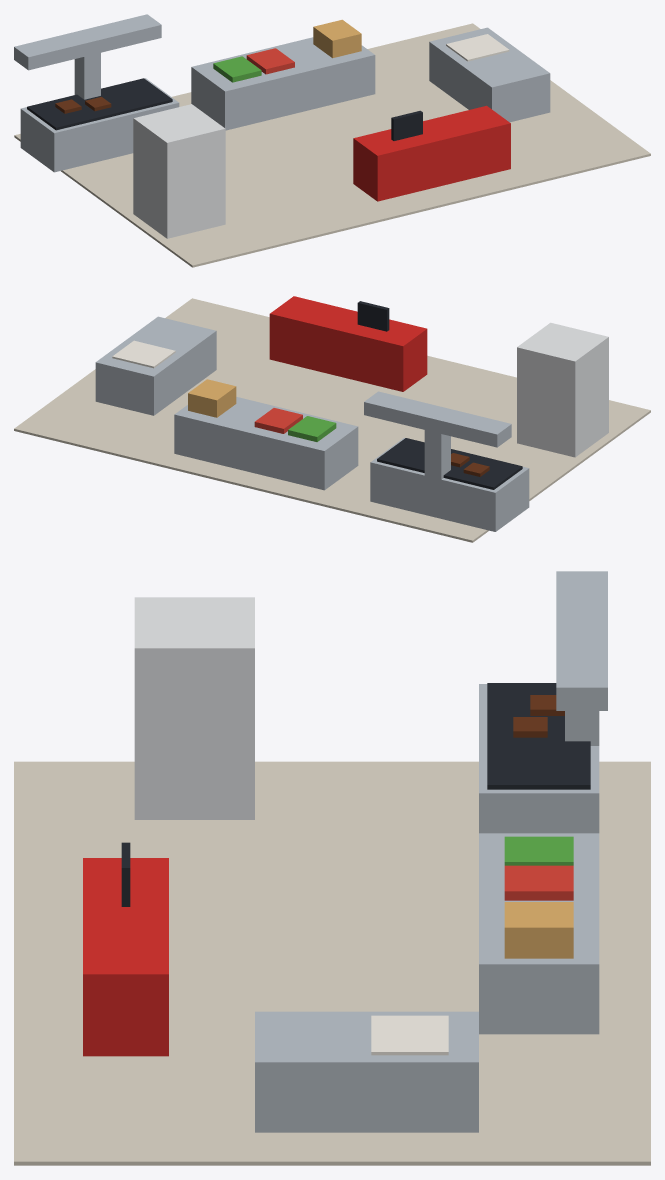
File: kitchen.glb
The picture shows the model from 3 angles, top to bottom: view 1: azimuth 30°, elevation 25°; view 2: azimuth 150°, elevation 25°; view 3: azimuth 270°, elevation 25°; orthographic projection. The views are drawn at different scales.
Parts seen in each view (by area): view 1: object 16, object 15, register, prep line, wrap station, Cube.003, hood, griddle, bun rack, flue, paper, lettuce bin (+2 smaller); view 2: object 16, object 15, register, prep line, wrap station, Cube.003, hood, griddle, bun rack, flue, paper, lettuce bin (+2 smaller); view 3: object 16, object 15, wrap station, register, prep line, griddle, hood, Cube.003, bun rack, paper, tomato bin, lettuce bin (+1 smaller).
Boxes of the visible parts, <box> form: object 16: <box>14,23,650,267</box>; object 15: <box>133,104,225,238</box>; register: <box>353,105,510,201</box>; prep line: <box>191,37,375,130</box>; wrap station: <box>429,27,550,122</box>; Cube.003: <box>20,78,179,172</box>; hood: <box>14,14,161,70</box>; griddle: <box>27,78,172,130</box>; bun rack: <box>313,19,361,58</box>; flue: <box>74,53,100,99</box>; paper: <box>446,34,509,61</box>; lettuce bin: <box>213,56,261,82</box>; object 16: <box>14,298,650,542</box>; object 15: <box>517,322,608,457</box>; register: <box>269,296,427,391</box>; prep line: <box>174,397,358,490</box>; wrap station: <box>95,316,216,415</box>; Cube.003: <box>370,437,529,531</box>; hood: <box>364,391,511,447</box>; griddle: <box>377,438,522,489</box>; bun rack: <box>188,379,236,417</box>; flue: <box>424,430,450,479</box>; paper: <box>112,340,175,368</box>; lettuce bin: <box>288,416,336,441</box>; object 16: <box>14,761,650,1165</box>; object 15: <box>134,597,254,819</box>; wrap station: <box>255,1011,478,1132</box>; register: <box>83,858,168,1056</box>; prep line: <box>479,833,599,1034</box>; griddle: <box>487,683,590,789</box>; hood: <box>556,571,607,710</box>; Cube.003: <box>479,684,599,833</box>; bun rack: <box>504,902,573,958</box>; paper: <box>371,1015,448,1055</box>; tomato bin: <box>504,865,573,900</box>; lettuce bin: <box>504,836,573,865</box>.
Size of the model in its own units: 11.3 by 2.35 by 7.4.
